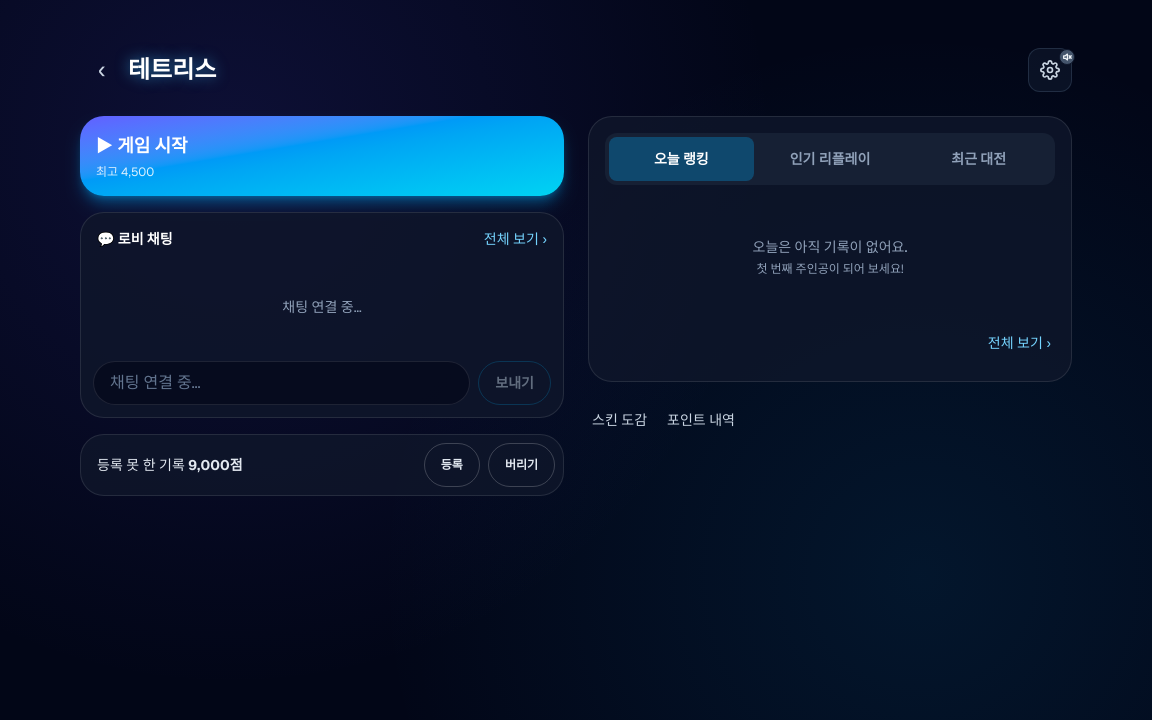
it: TetrisHome — 서버 기준 "나"·내 최고 점수 › 보관해 둔 기록을 다시 등록하면 계정 최고점을 다시 받는다
The width and height of the screenshot is (1152, 720).
Step 1. Click the button with aria-label "다시 등록하기" → (452, 465), box [424,443,480,487]
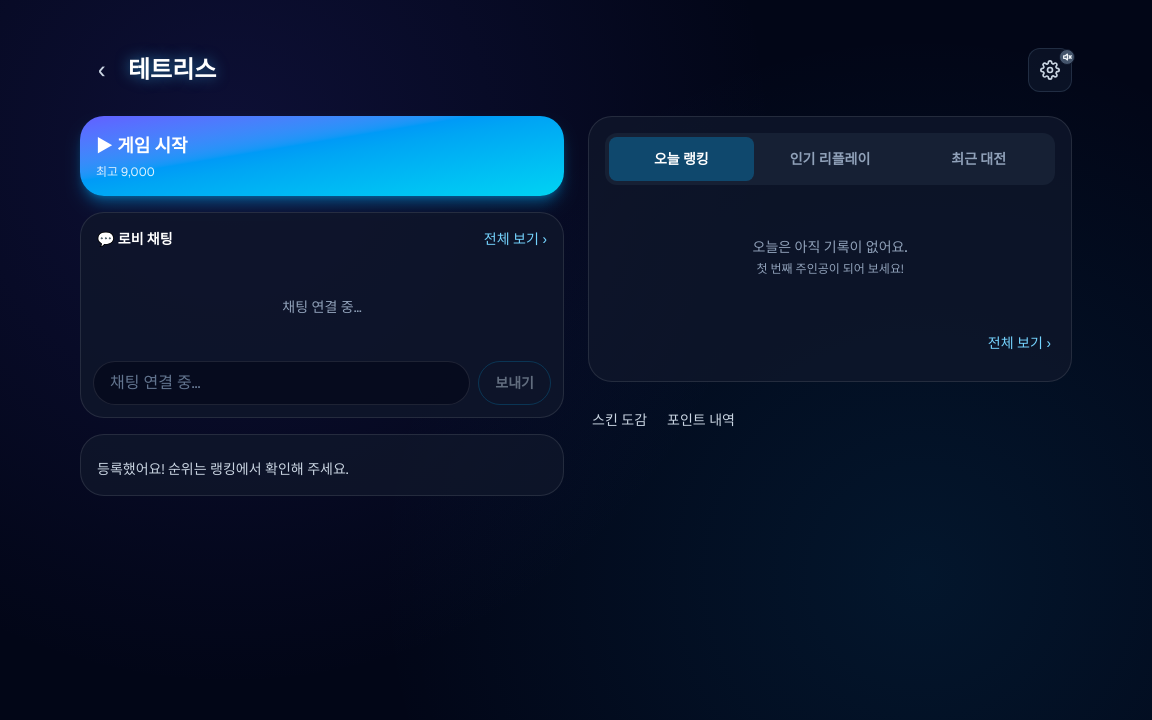
Check: the link "▶ 게임 시작 최고 9,000" is shown, box [80,116,564,196]
